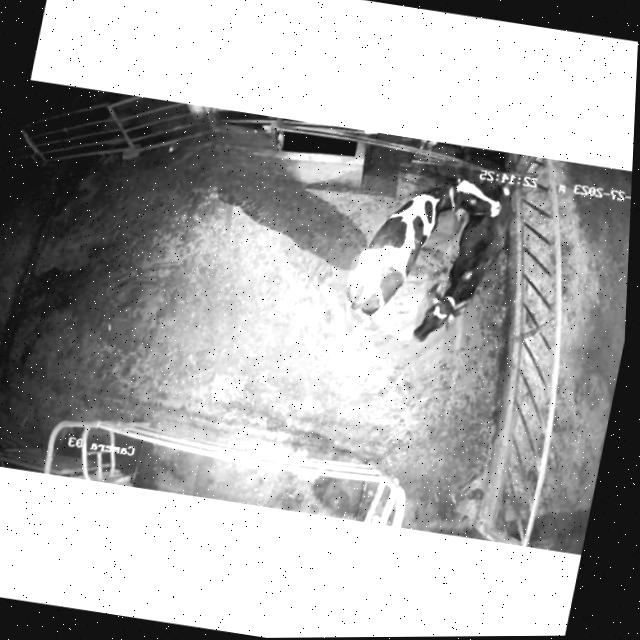propping: (401, 164, 530, 243)
